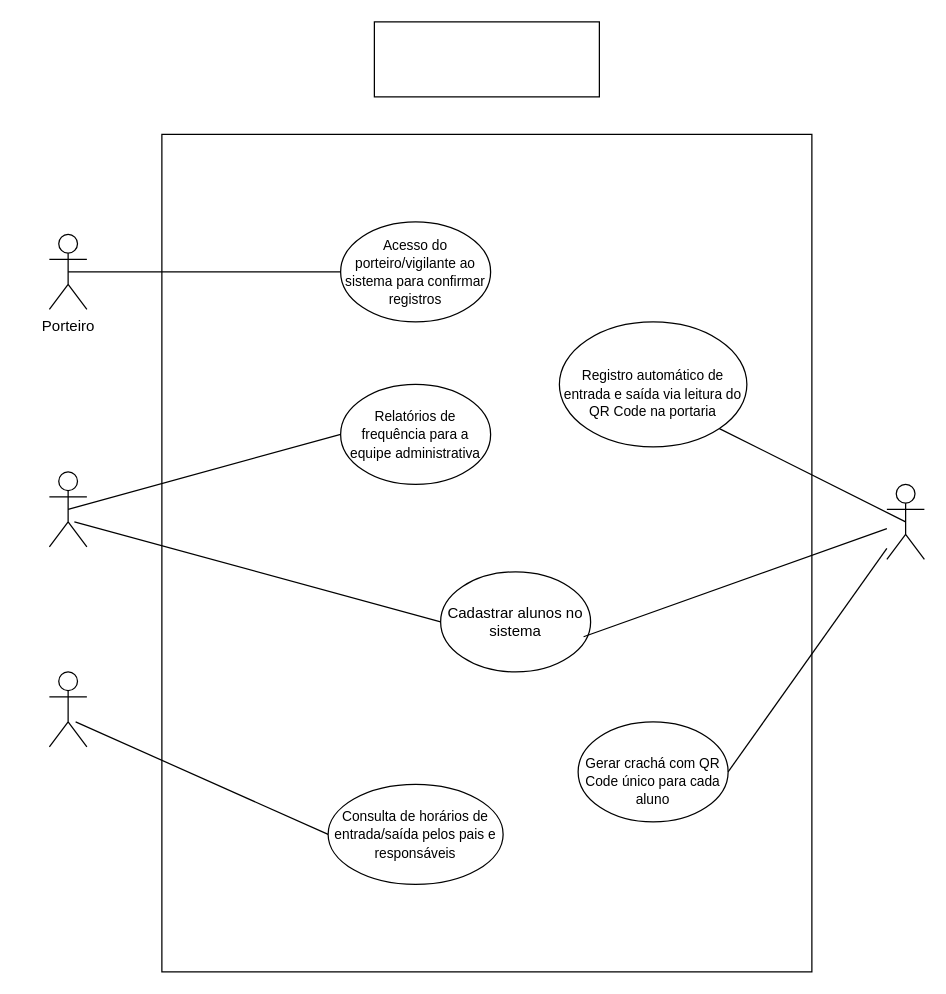
Image size: 946x994. Some labels were removed from this diagram. The centre of each missing label's shape, as x and y in pixels:
"Aluno" goes at point (905, 521).
"Diagrama de Casos de Uso" goes at point (486, 59).
"Direção" goes at point (67, 509).
"Responsáveis" goes at point (67, 709).
